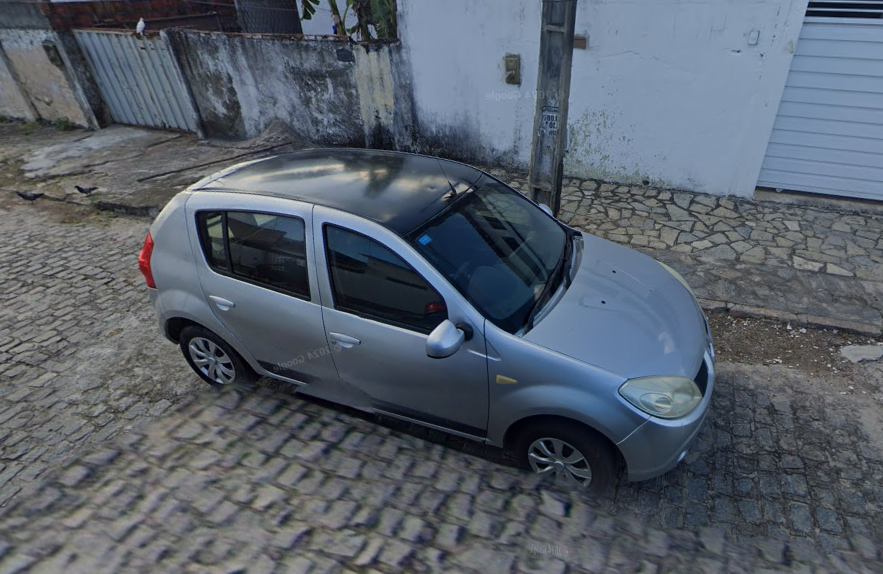car: (132, 143, 717, 508)
